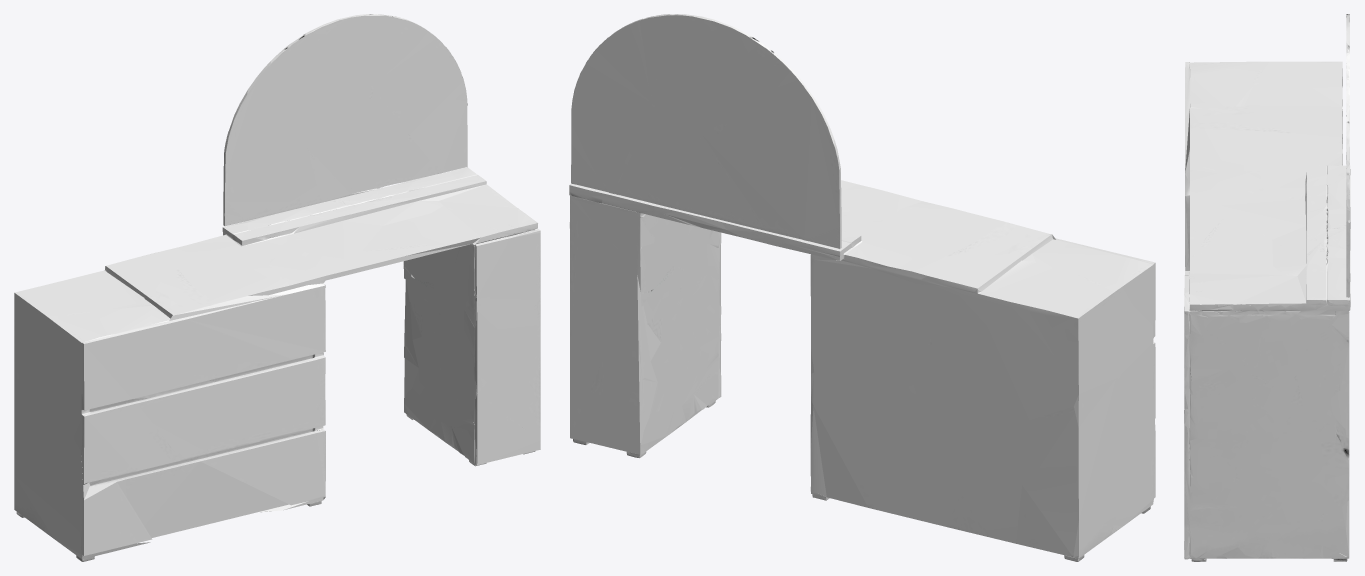
File: dressing-table.glb
The picture shows the model from 3 angles, left to right: view 1: azimuth 30°, elevation 25°; view 2: azimuth 150°, elevation 25°; view 3: azimuth 270°, elevation 25°; orthographic projection. The views are drawn at different scales.
Size of the model in its own units: 1.9 by 1.64 by 0.53.
1 material, 1 textured.
